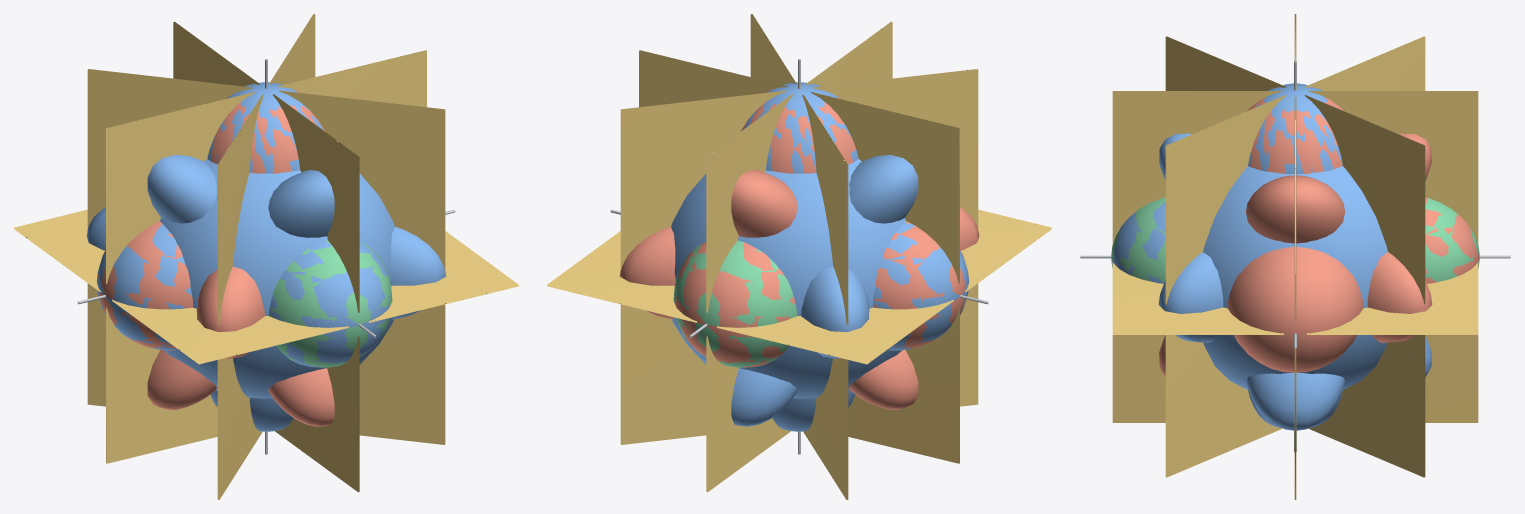
Rendered from orbitals.glb.
3 renders of one model, left to right at view 1: azimuth 30°, elevation 25°; view 2: azimuth 150°, elevation 25°; view 3: azimuth 270°, elevation 25°, orthographic.
Parts seen in each view (by area): view 1: dx2y2_planes, py_planes, s2_outer, px_planes, pz_planes, py_neg, pall_py, pall_px, dxz_neg, px_neg, dyz_neg, pall_pz (+6 smaller); view 2: dx2y2_planes, py_planes, s2_outer, px_planes, pz_planes, py_pos, pall_py, dxz_neg, px_neg, pall_px, dyz_pos, pall_pz (+6 smaller); view 3: dx2y2_planes, px_planes, s2_outer, pz_planes, px_pos, pall_px, dxz_pos, dxz_neg, pall_py, pall_pz, pz_pos, dxy_neg (+6 smaller).
Boxes of the visible parts, x1,y1,x2,y2 form: dx2y2_planes: [87, 14, 445, 499]; py_planes: [106, 50, 426, 463]; s2_outer: [160, 159, 394, 398]; px_planes: [173, 21, 359, 492]; pz_planes: [14, 209, 518, 364]; py_neg: [269, 241, 390, 367]; pall_py: [268, 240, 392, 367]; pall_px: [97, 221, 192, 350]; dxz_neg: [147, 154, 216, 223]; px_neg: [97, 224, 192, 350]; dyz_neg: [268, 170, 334, 237]; pall_pz: [207, 82, 322, 431]; dx2y2_planes: [620, 14, 978, 499]; py_planes: [639, 50, 959, 463]; s2_outer: [671, 159, 905, 398]; px_planes: [706, 21, 892, 492]; pz_planes: [547, 209, 1051, 364]; py_pos: [675, 242, 795, 367]; pall_py: [673, 240, 797, 367]; dxz_neg: [849, 154, 918, 223]; px_neg: [873, 222, 968, 350]; pall_px: [873, 221, 968, 350]; dyz_pos: [731, 170, 797, 237]; pall_pz: [744, 82, 858, 431]; dx2y2_planes: [1165, 36, 1425, 477]; px_planes: [1112, 91, 1478, 422]; s2_outer: [1203, 166, 1387, 389]; pz_planes: [1112, 261, 1478, 334]; px_pos: [1227, 247, 1361, 369]; pall_px: [1227, 247, 1363, 372]; dxz_pos: [1246, 175, 1344, 243]; dxz_neg: [1246, 83, 1344, 430]; pall_py: [1111, 197, 1479, 282]; pall_pz: [1248, 84, 1342, 427]; pz_pos: [1247, 98, 1343, 173]; dxy_neg: [1158, 252, 1223, 342].
Bounding box in the file's own units: 0.14 × 0.14 × 0.14.
